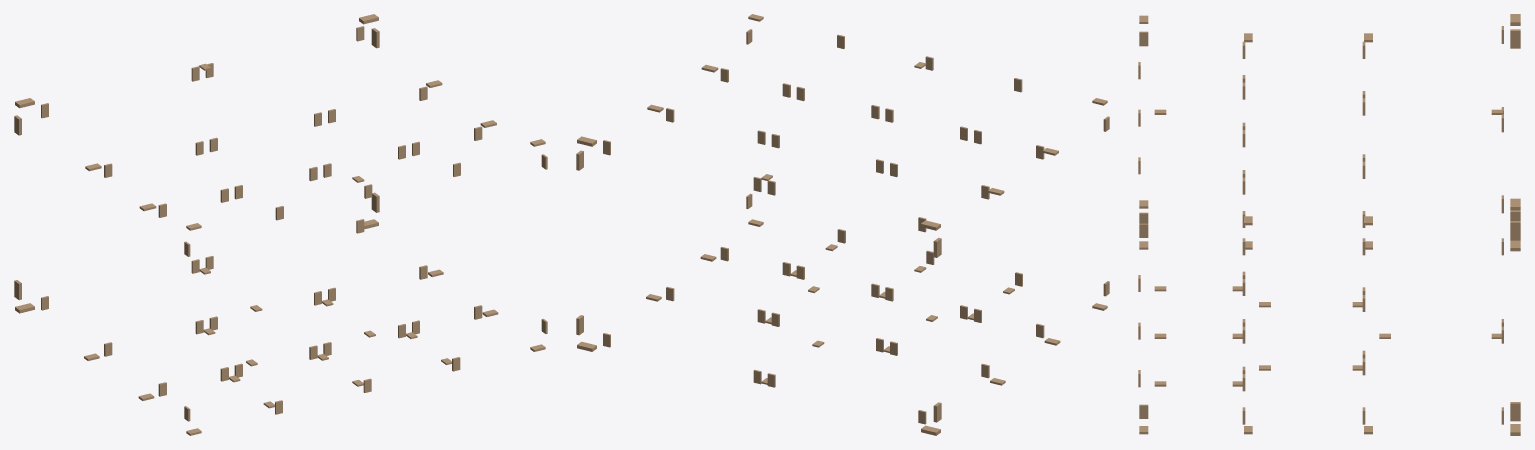
Rendered from dominos.fbx.
3 renders of one model, left to right at view 1: azimuth 30°, elevation 25°; view 2: azimuth 150°, elevation 25°; view 3: azimuth 270°, elevation 25°, orthographic. The views are drawn at different scales.
Size of the model in its own units: 36.7 by 20.26 by 30.66.
